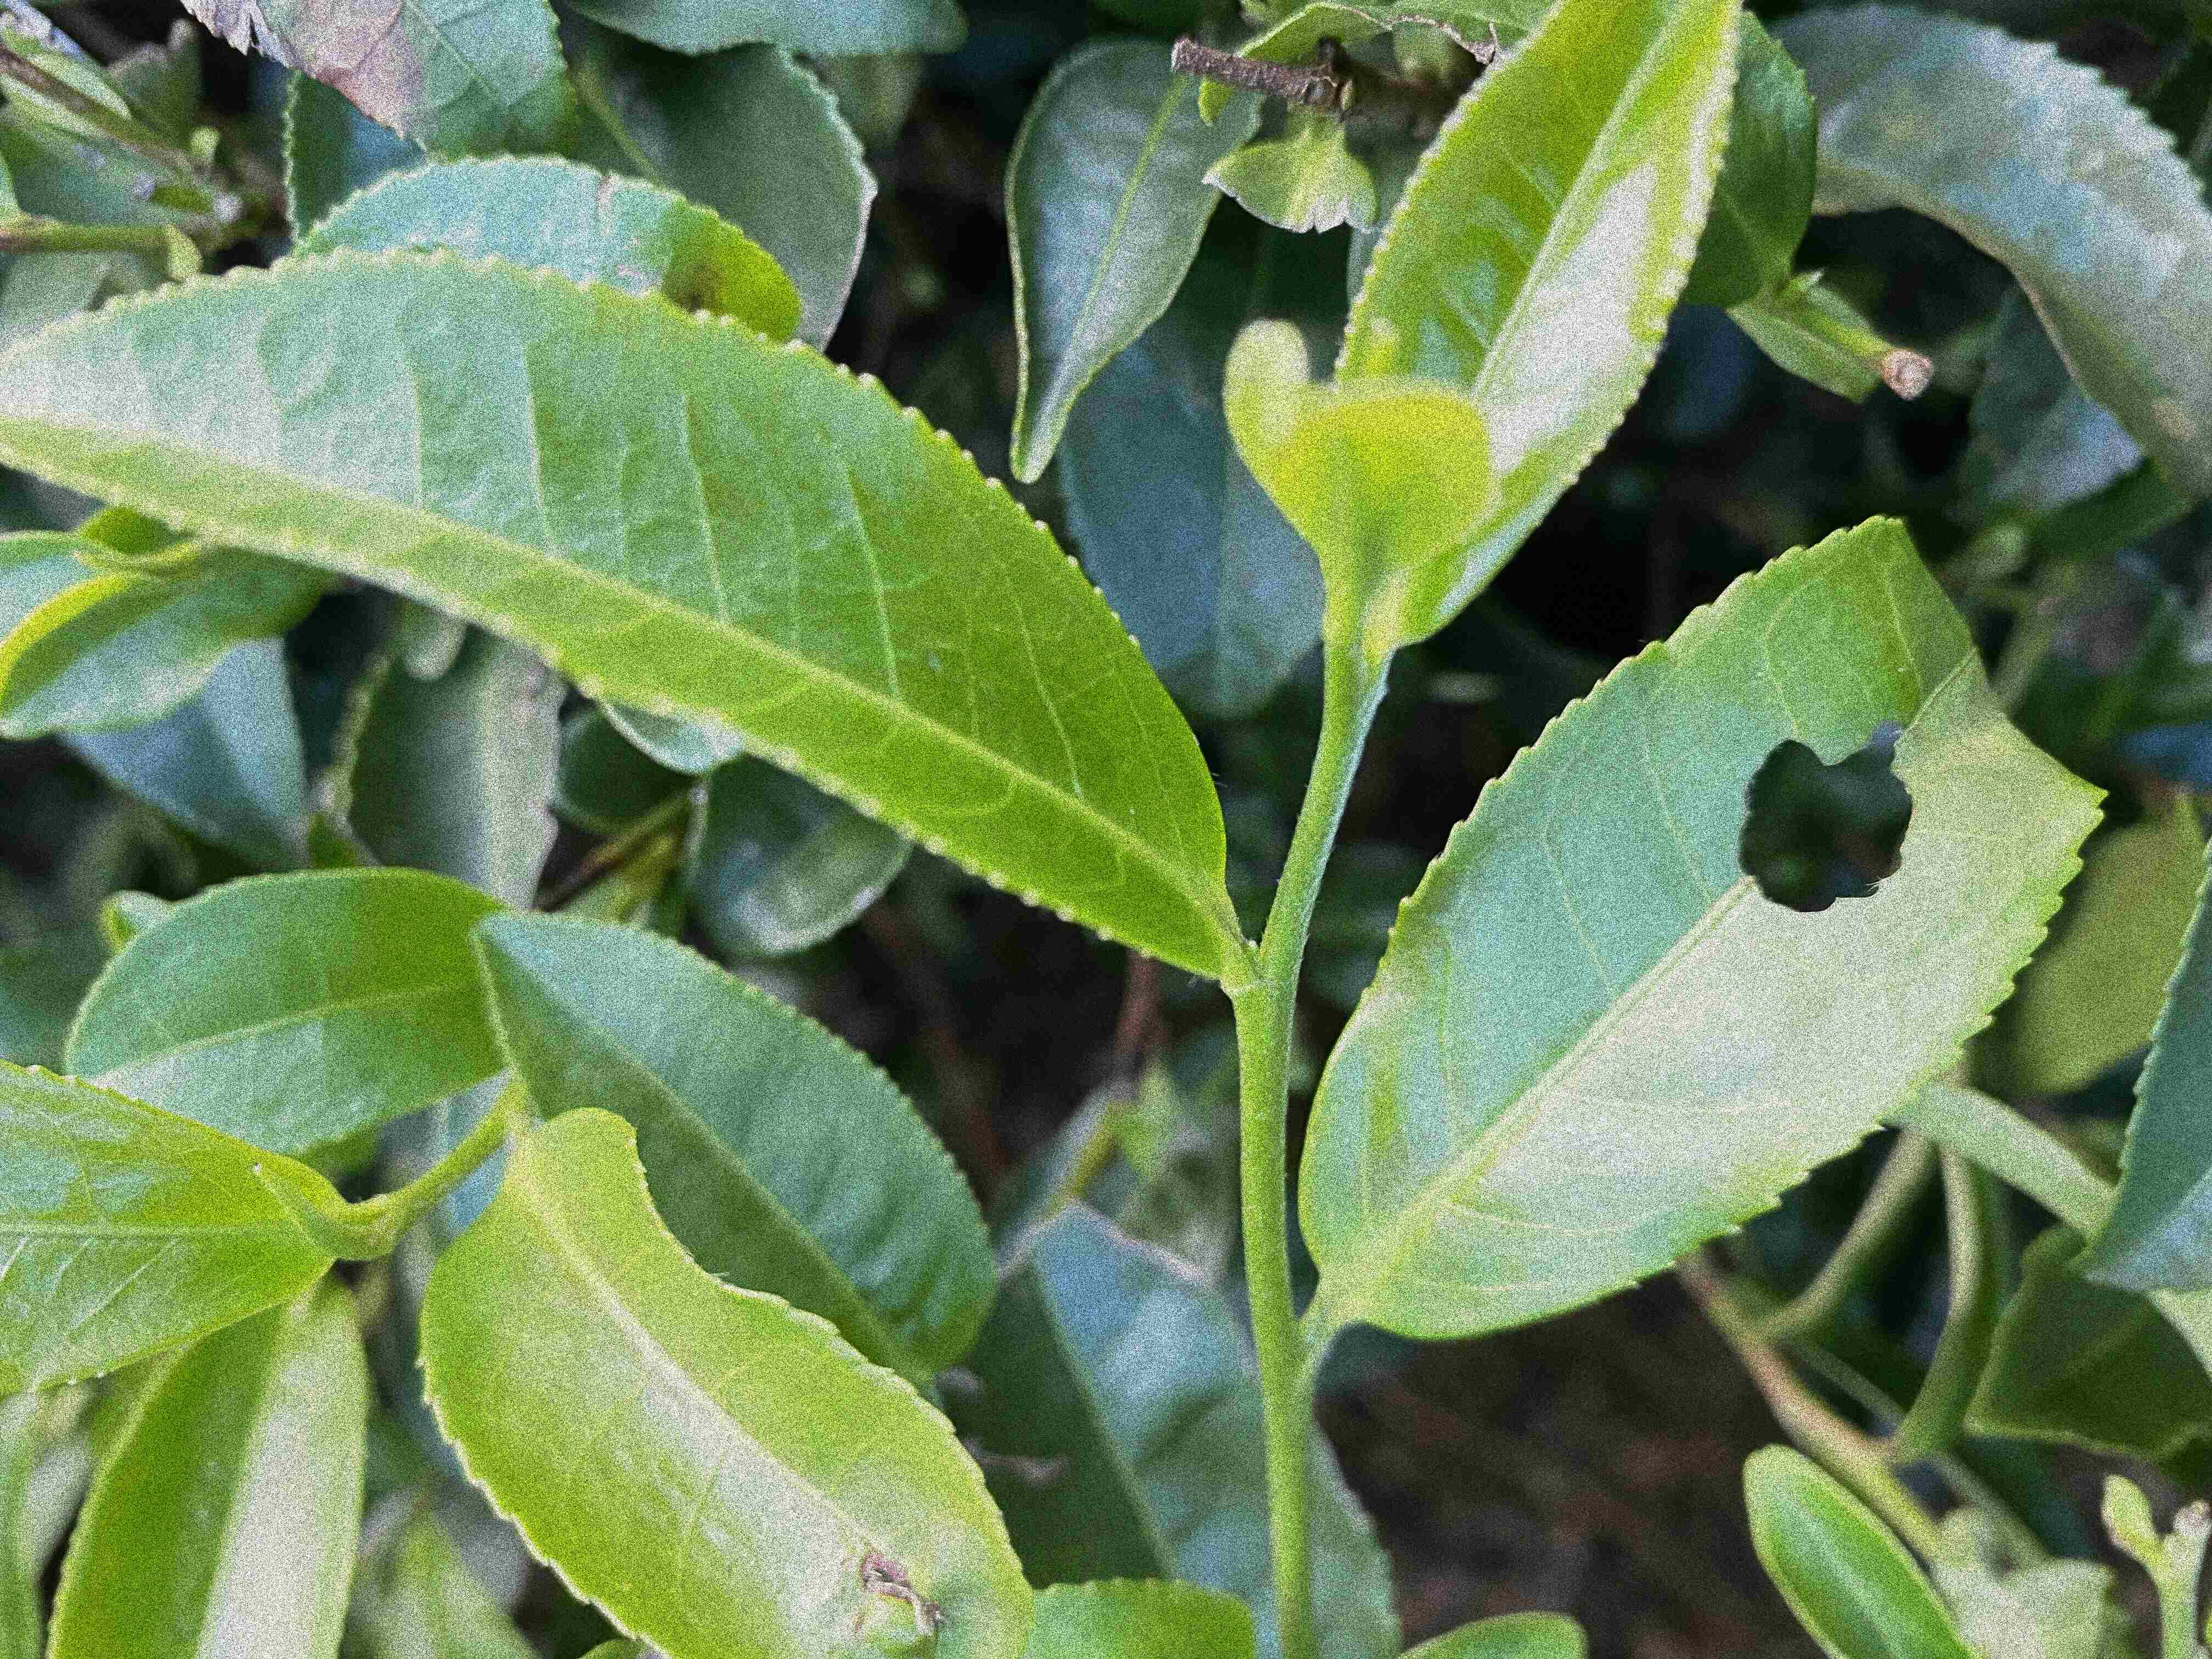chihuo_high: (1197, 136, 1383, 237)
chihuo_low: (1294, 509, 2113, 1342)
healthy: (2, 240, 1242, 985)
tanju_high: (413, 1103, 1031, 1656), (174, 3, 601, 153)
